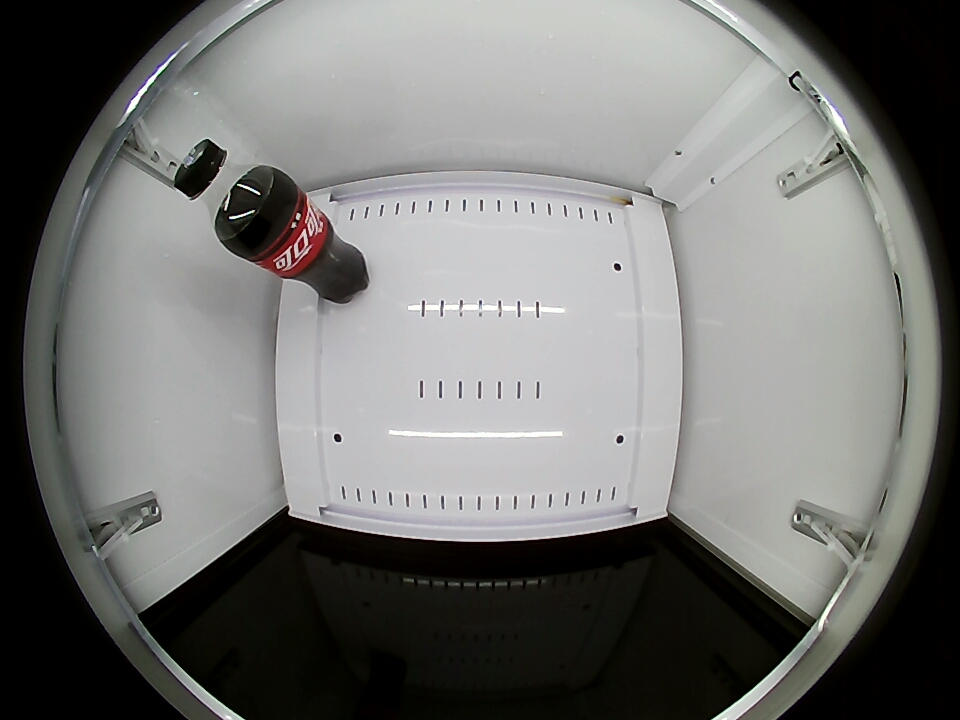lingdukele-b: (174, 140, 276, 243)
